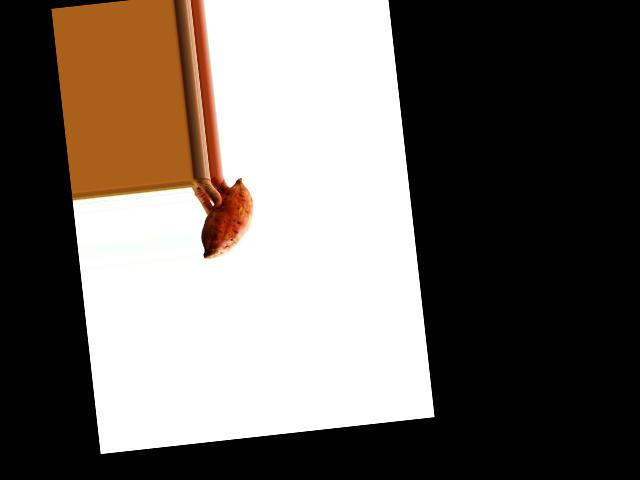sweet_potato: (193, 179, 263, 261)
